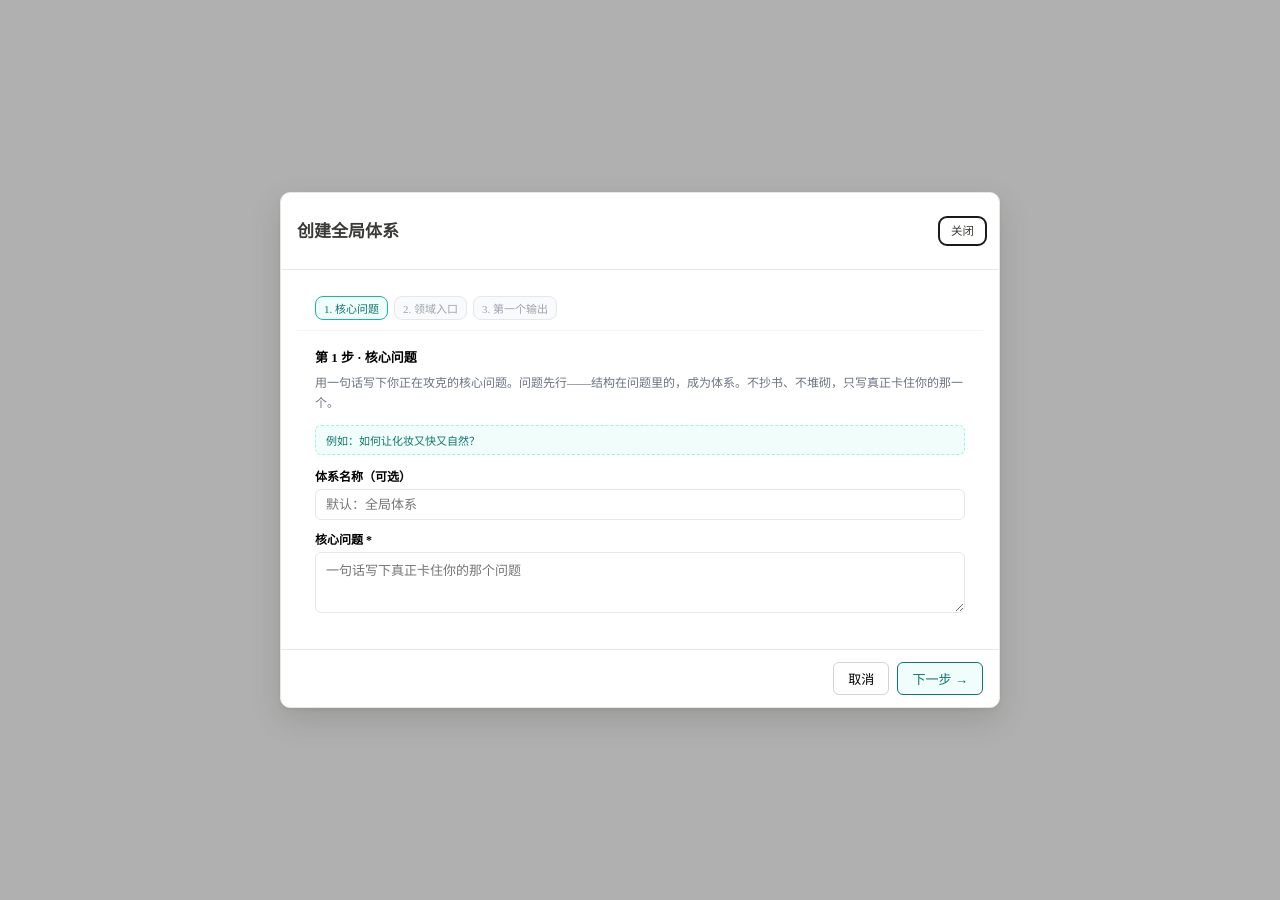
Test case: KnowledgeSystemWizard 三步校验 › 领域入口去重：重复行 → 红色提示且不前进到第 3 步
Expected: the dialog with test id "knowledge-wizard" is shown, [280, 192, 1000, 708]
In the field with test id "wizard-name": (640, 504) [315, 489, 965, 520], type "全局体系"
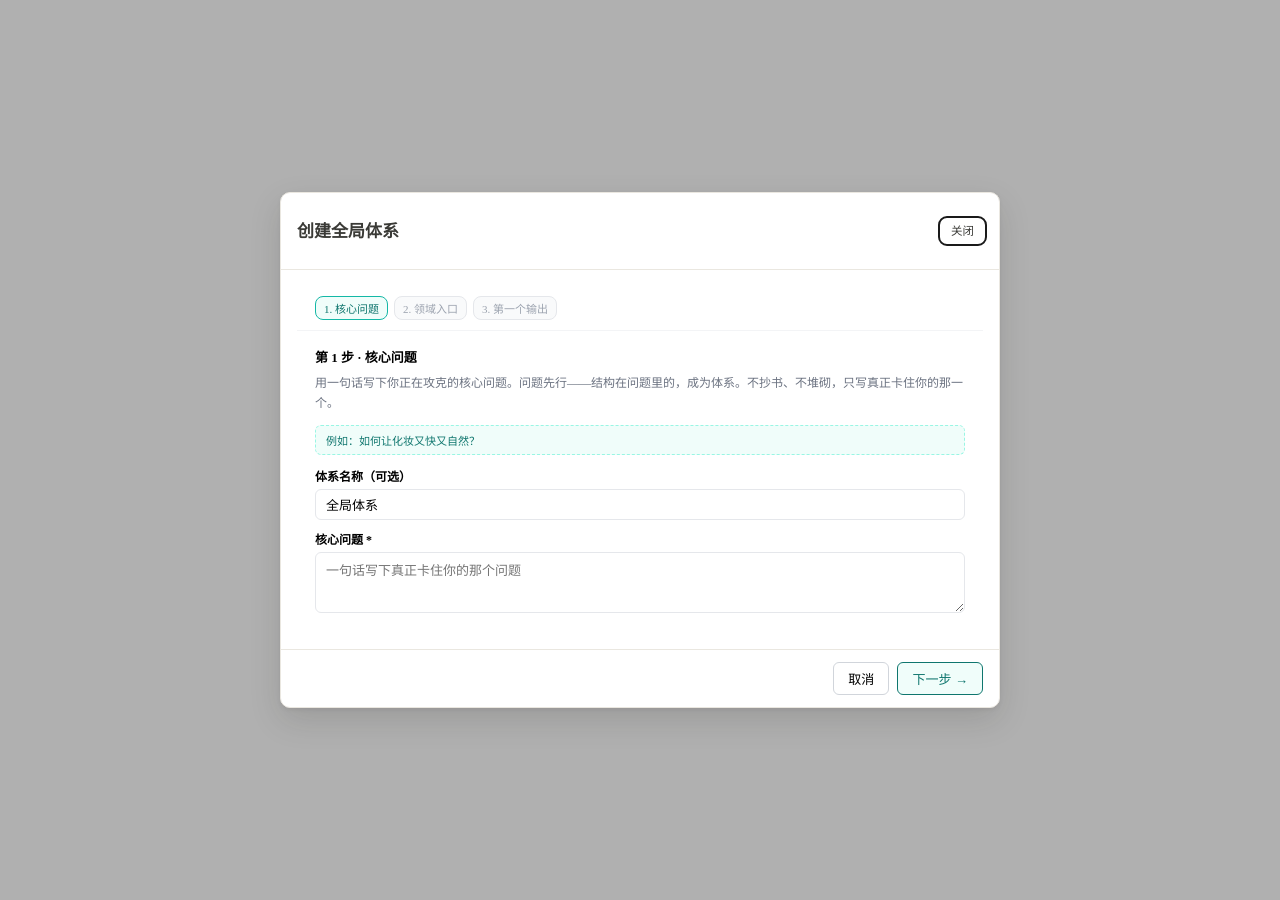
In the text box with test id "wizard-core-question": (640, 582) [315, 552, 965, 613], type "如何练好化妆"
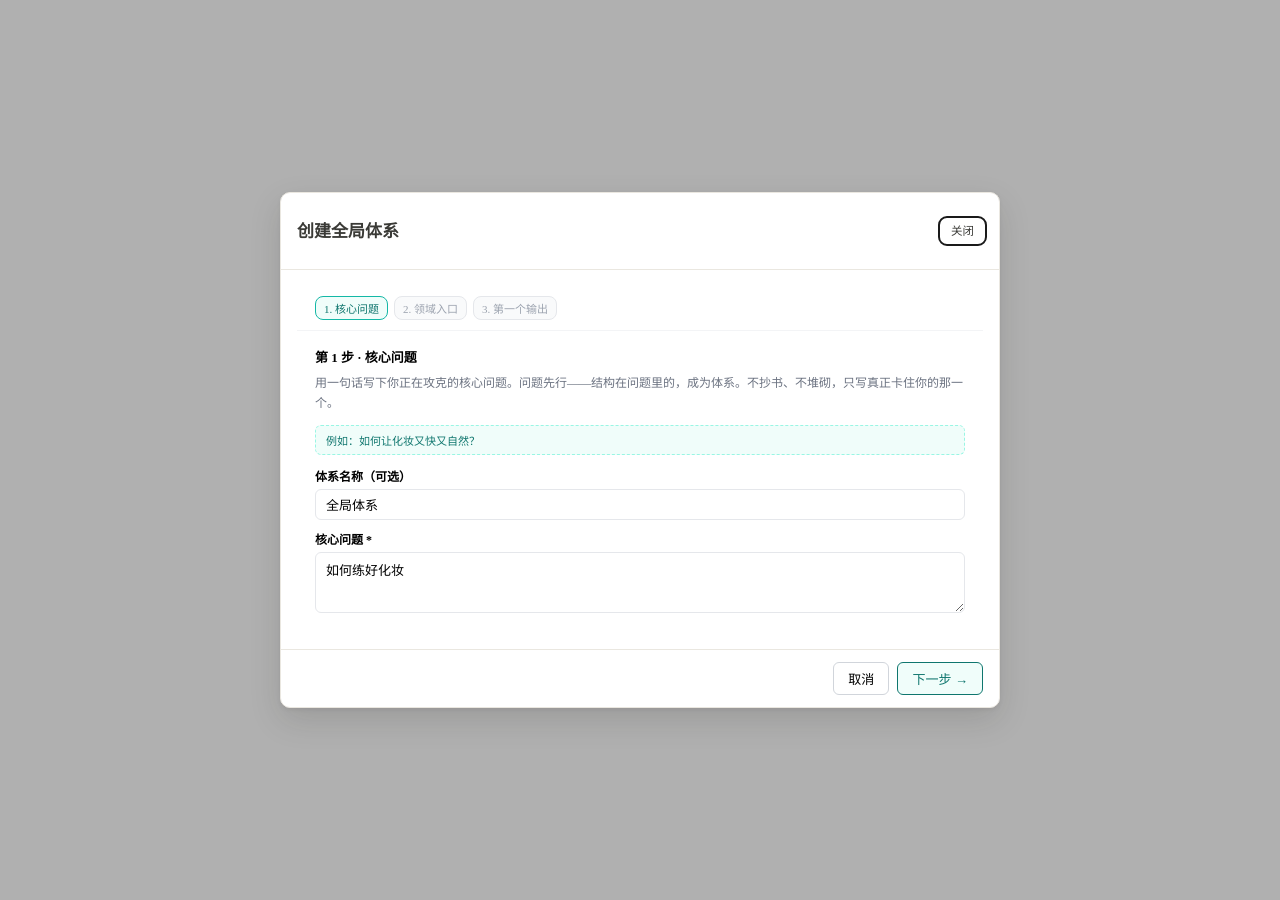
Click the button with test id "wizard-next": (940, 678) [897, 662, 983, 695]
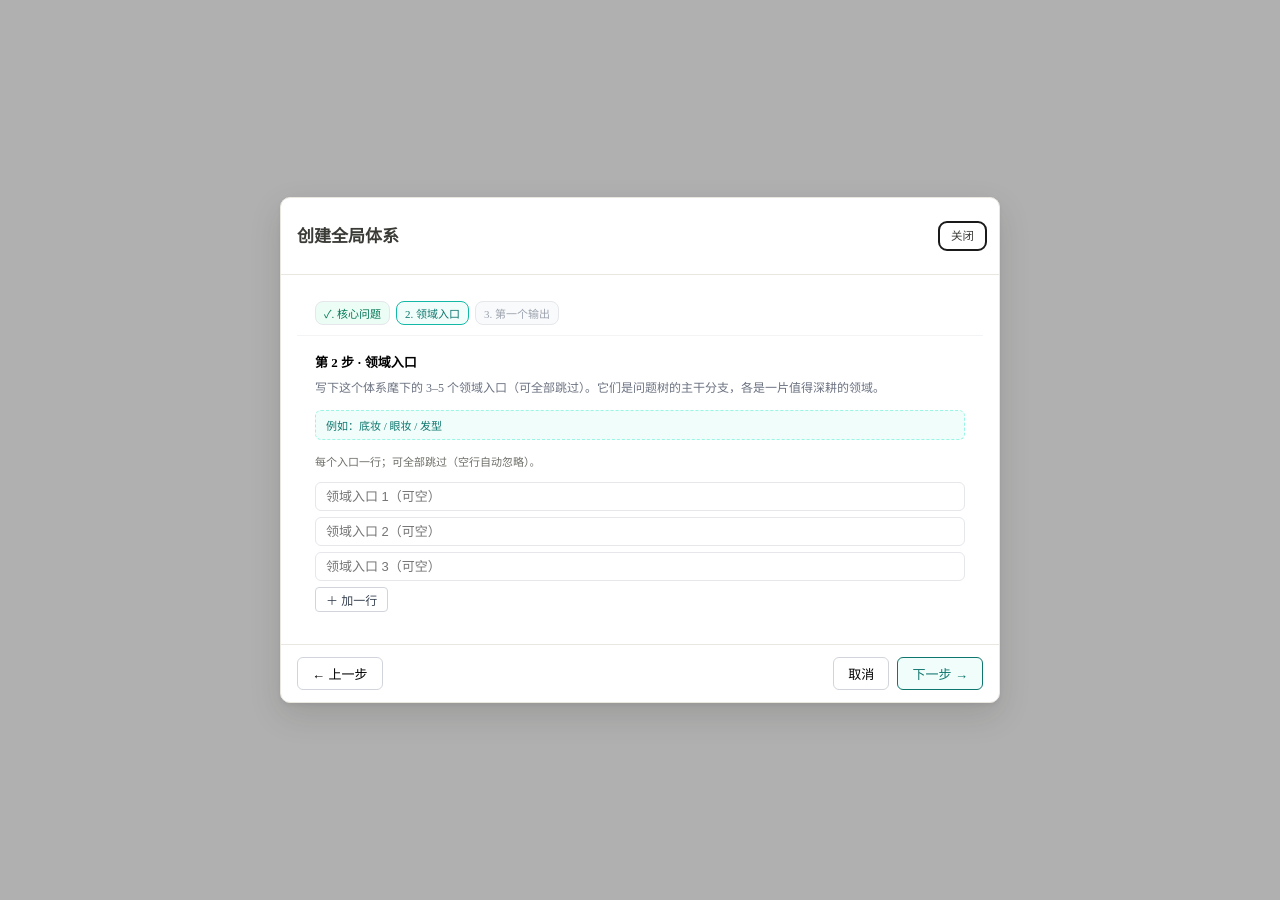
Now the field with test id "wizard-domain-0" is shown
In the field with test id "wizard-domain-0": (640, 497) [315, 482, 965, 511], type "化妆"
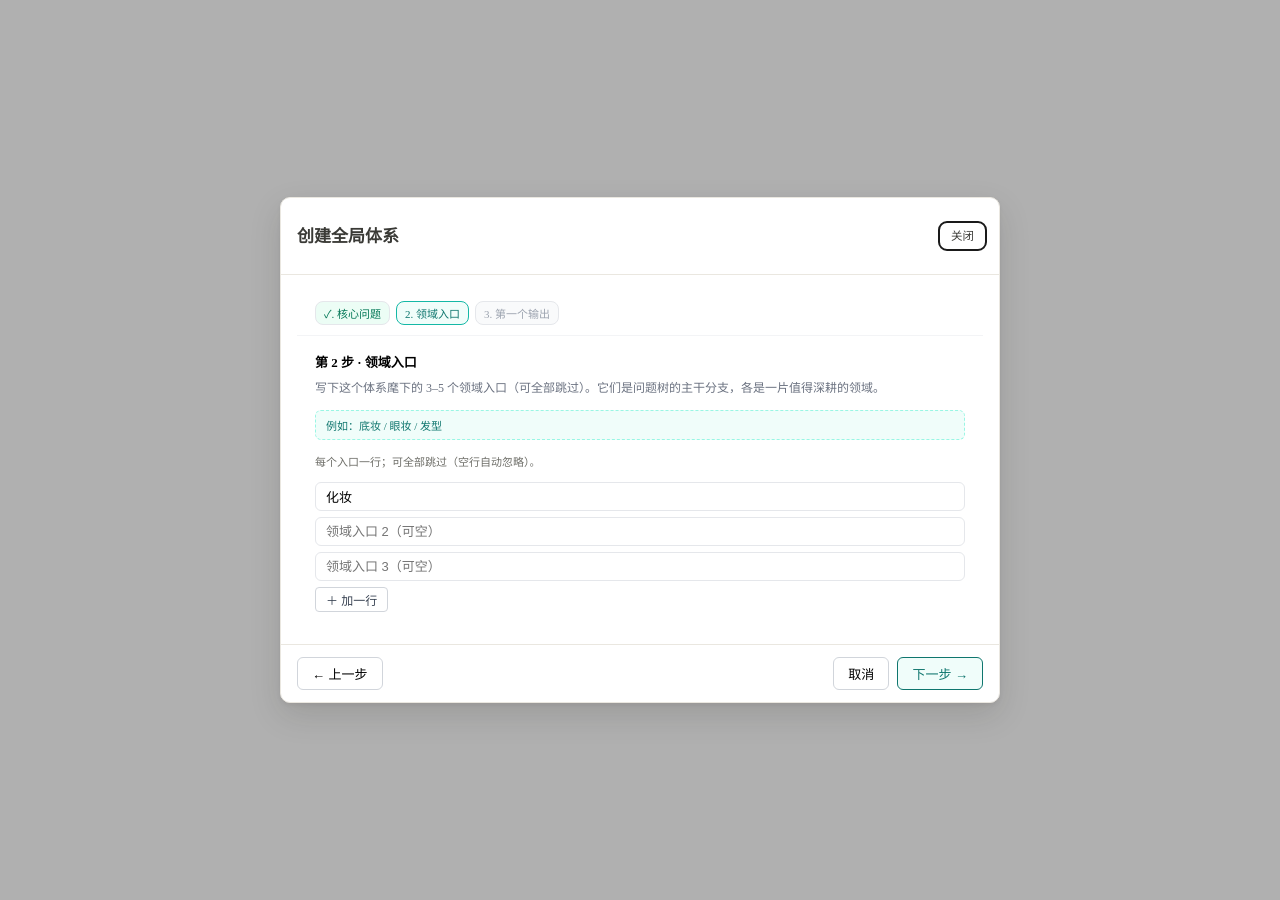
In the field with test id "wizard-domain-1": (640, 532) [315, 517, 965, 546], type "化妆"
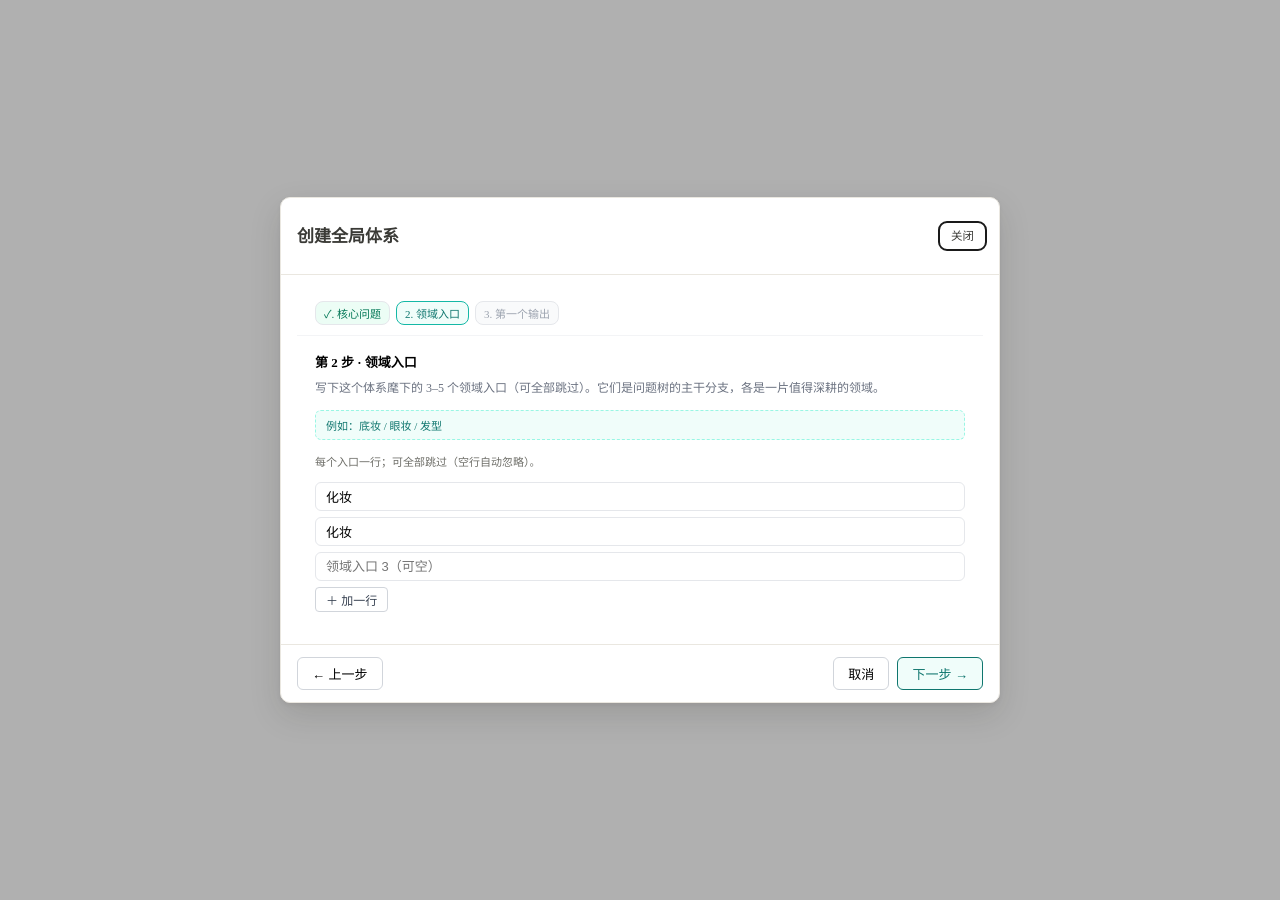
Click the button with test id "wizard-next": (940, 674) [897, 657, 983, 690]
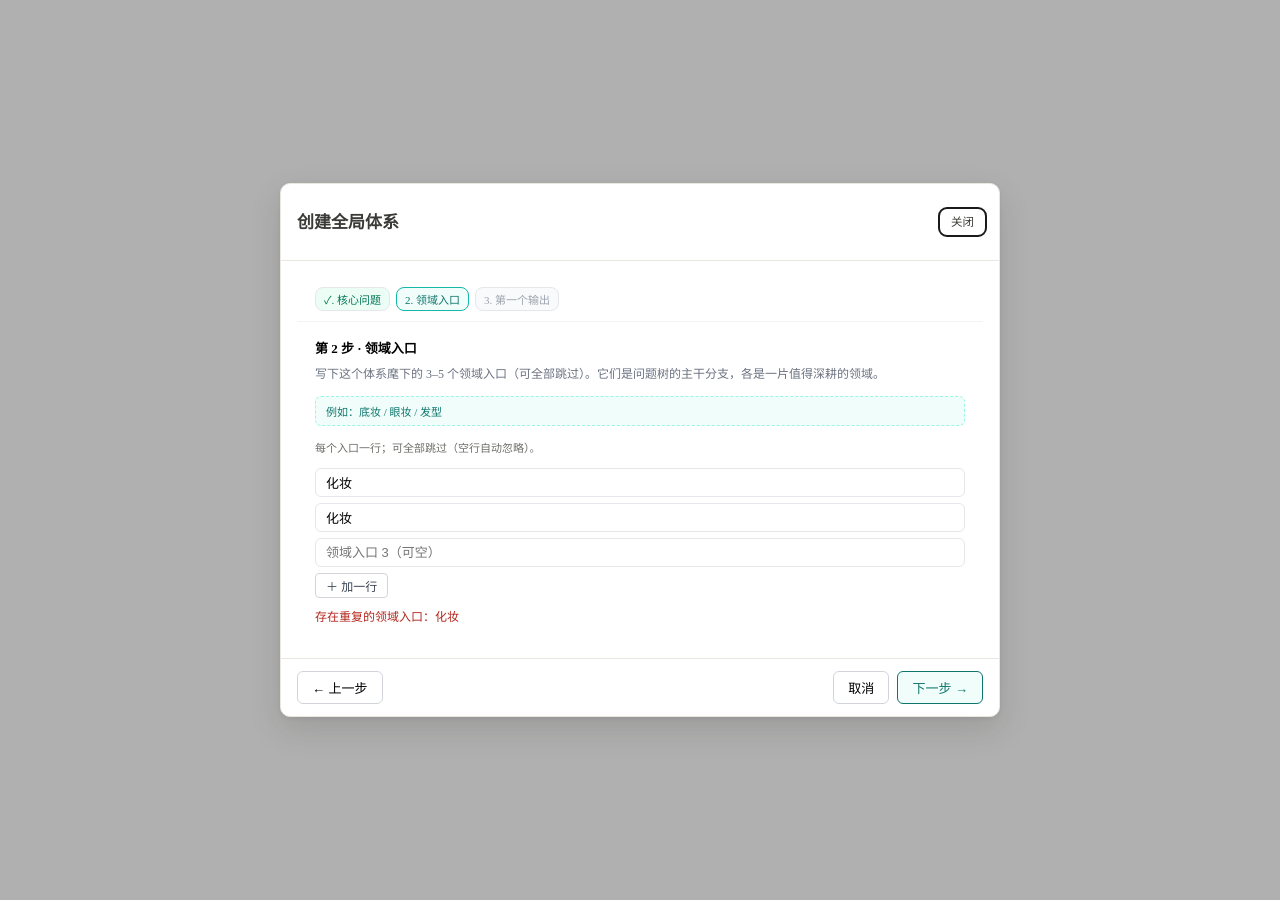
Now the message with test id "wizard-error" shows "存在重复的领域入口", box [315, 609, 459, 624]
